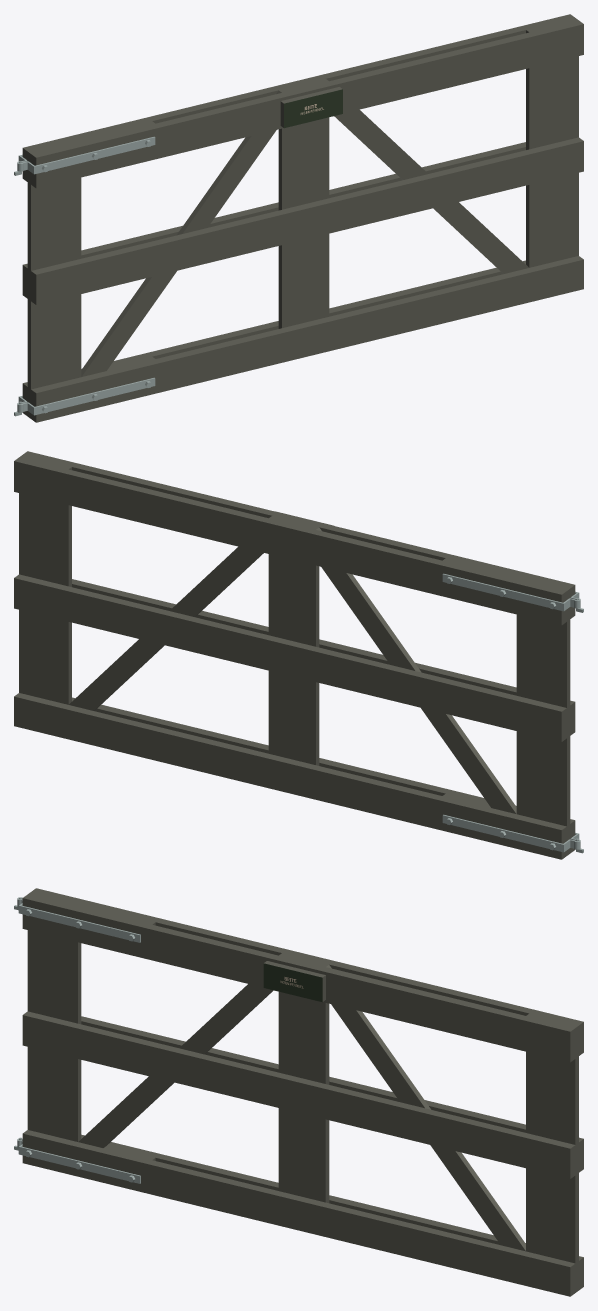
Rendered from sweethome3d-contributions-gate-386.glb.
The picture shows the model from 3 angles, top to bottom: view 1: azimuth 30°, elevation 25°; view 2: azimuth 150°, elevation 25°; view 3: azimuth 330°, elevation 25°; orthographic projection.
Parts seen in each view (by area): view 1: 1_1, 15_15, 2_2, 3_3; view 2: 1_1, 2_2, 3_3; view 3: 1_1, 15_15, 2_2, 3_3.
Part boxes in pixels (x1,y1,x2,y2): 1_1: (22,14,583,422); 15_15: (284,89,342,128); 2_2: (17,136,155,174); 3_3: (17,377,155,415); 1_1: (14,451,575,859); 2_2: (442,573,580,611); 3_3: (442,814,580,852); 1_1: (22,888,583,1296); 15_15: (263,963,322,1002); 2_2: (17,897,140,942); 3_3: (17,1138,140,1183).
Size of the model in its own units: 191 by 86 by 11.5.
3 materials, 1 textured.
